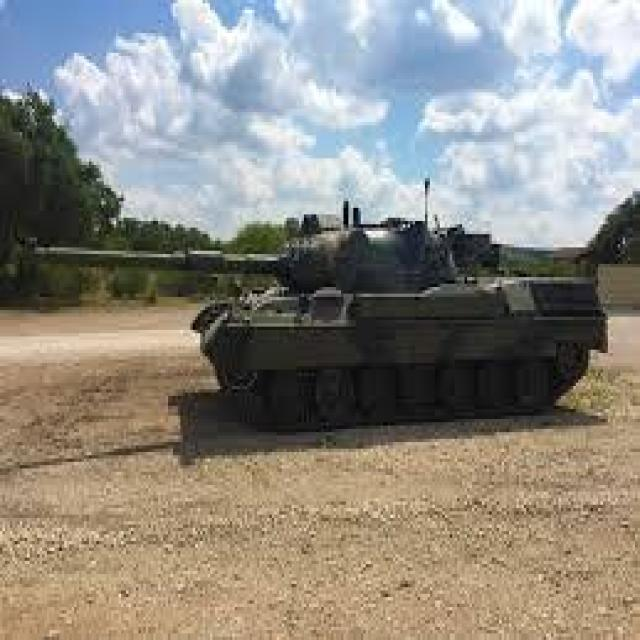Tanks: (25, 196, 628, 437)
